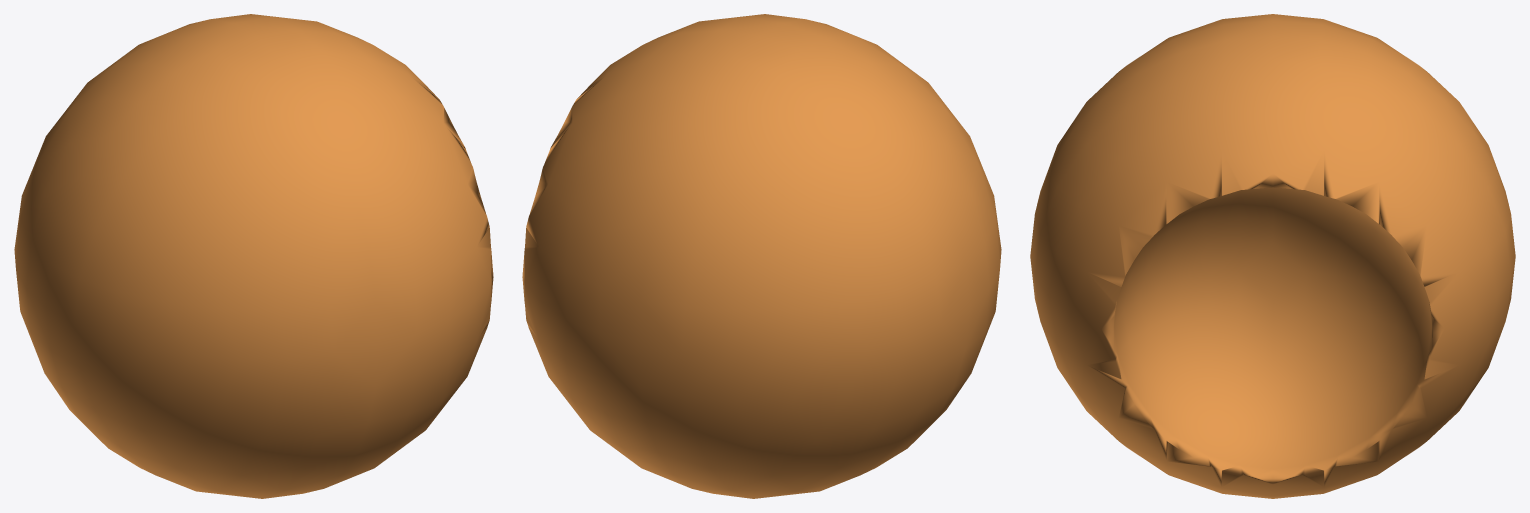
Rendered from expected.gltf.
3 views of the same model, side by side, from view 1: azimuth 30°, elevation 25°; view 2: azimuth 150°, elevation 25°; view 3: azimuth 270°, elevation 25° (orthographic).
Bounding box in the file's own units: 26.23 × 30 × 30.
